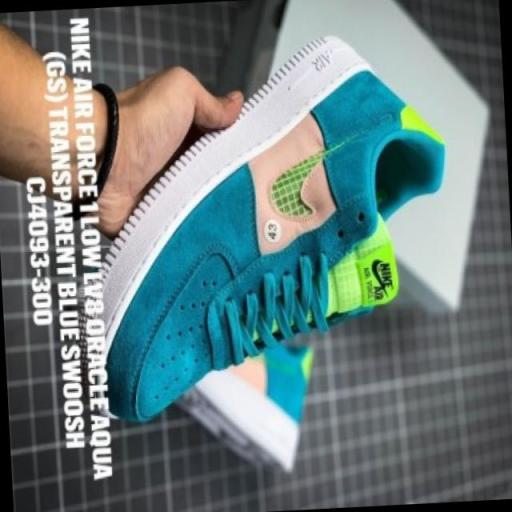Nike: (260, 127, 362, 230)
